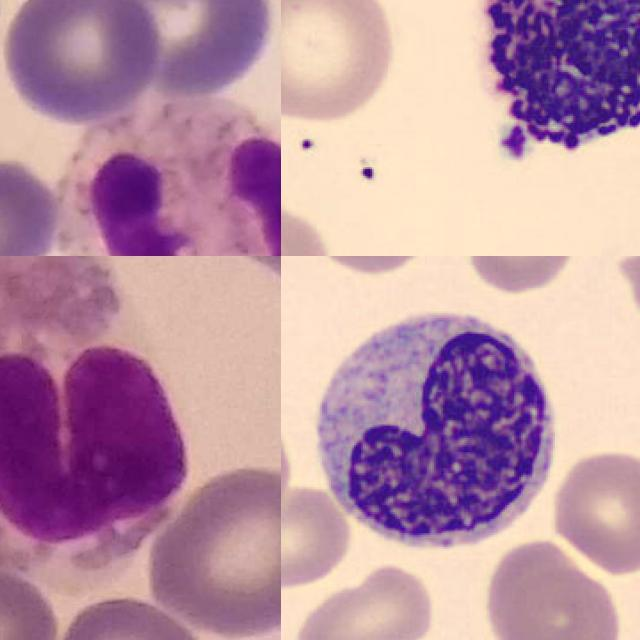Basophil: (453, 0, 640, 186)
Eosinophil: (0, 256, 191, 576)
Monocyte: (303, 294, 566, 562)
Neutrophil: (49, 102, 281, 256)
RBC: (281, 0, 404, 132), (480, 540, 627, 640), (547, 445, 640, 577), (288, 559, 439, 640), (281, 480, 355, 593), (458, 256, 581, 296), (281, 184, 338, 256)
